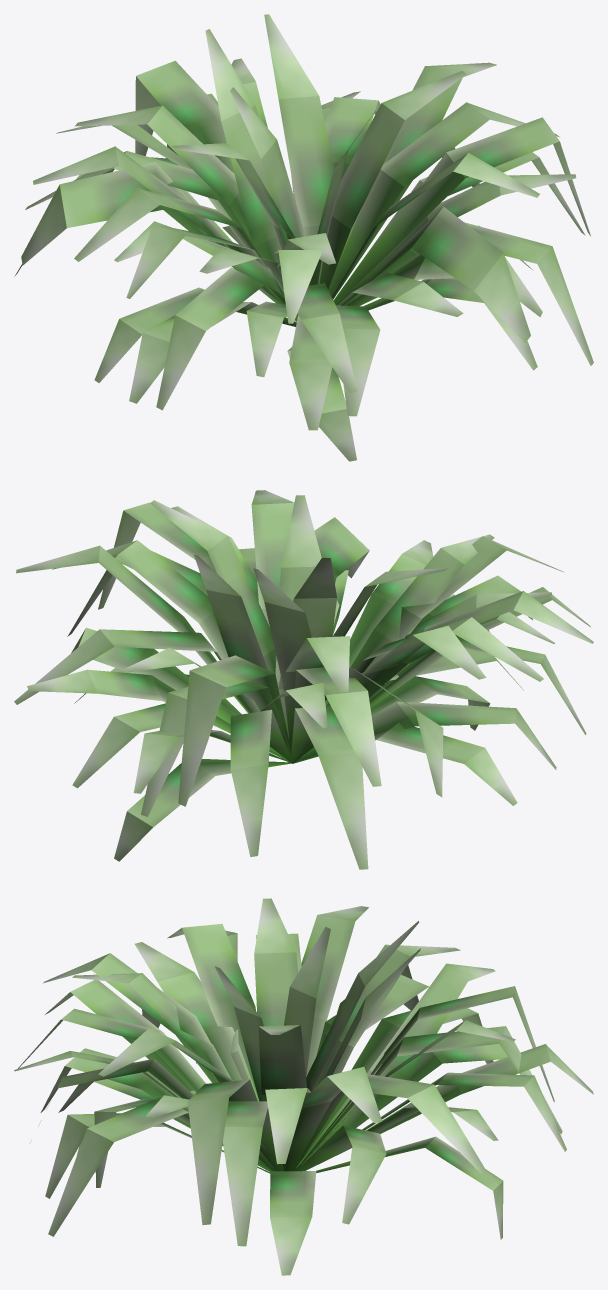
Rendered from Poly_Weed_Plant_02_Snow.obj.
The picture shows the model from 3 angles, top to bottom: view 1: azimuth 30°, elevation 25°; view 2: azimuth 150°, elevation 25°; view 3: azimuth 270°, elevation 25°; orthographic projection. The views are drawn at different scales.
Visible parts, largest first — view 1: Plane.001, Plane.002, Plane.003; view 2: Plane.002, Plane.001, Plane.003; view 3: Plane.002, Plane.001, Plane.003.
Part boxes in pixels (left/top/right/bottom): Plane.001: left=25, top=14, right=576, bottom=416; Plane.002: left=14, top=60, right=593, bottom=430; Plane.003: left=56, top=58, right=542, bottom=461; Plane.002: left=67, top=490, right=593, bottom=869; Plane.001: left=14, top=500, right=551, bottom=805; Plane.003: left=27, top=534, right=590, bottom=861; Plane.002: left=38, top=923, right=562, bottom=1246; Plane.001: left=40, top=898, right=486, bottom=1275; Plane.003: left=14, top=930, right=593, bottom=1239.
Bounding box in the file's own units: 0.4485 × 0.2502 × 0.4814.
1 material, 1 textured.
